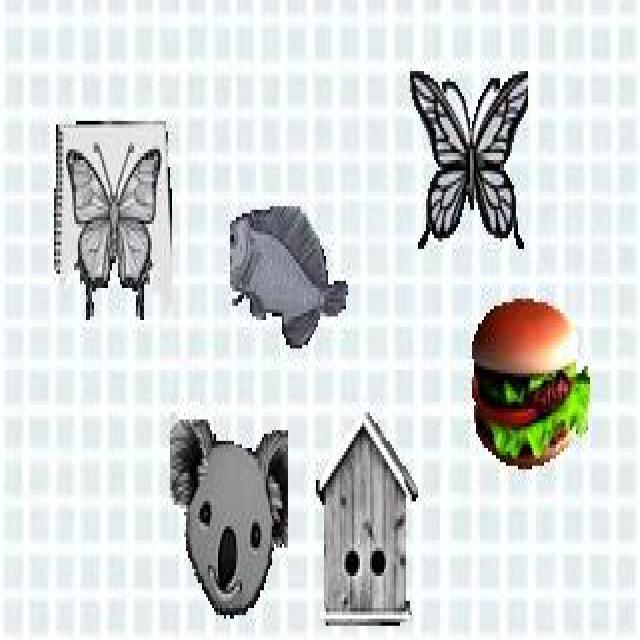Other Objects: (54, 119, 174, 323), (410, 68, 530, 251), (470, 296, 590, 471)
